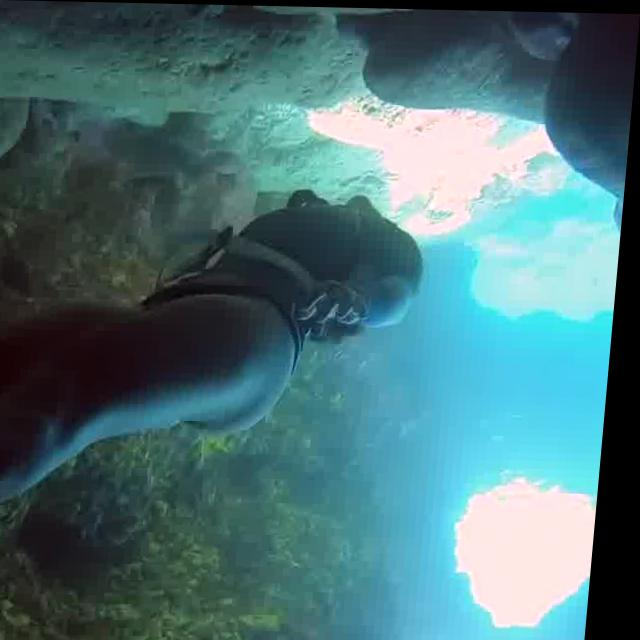human: (0, 184, 460, 622)
